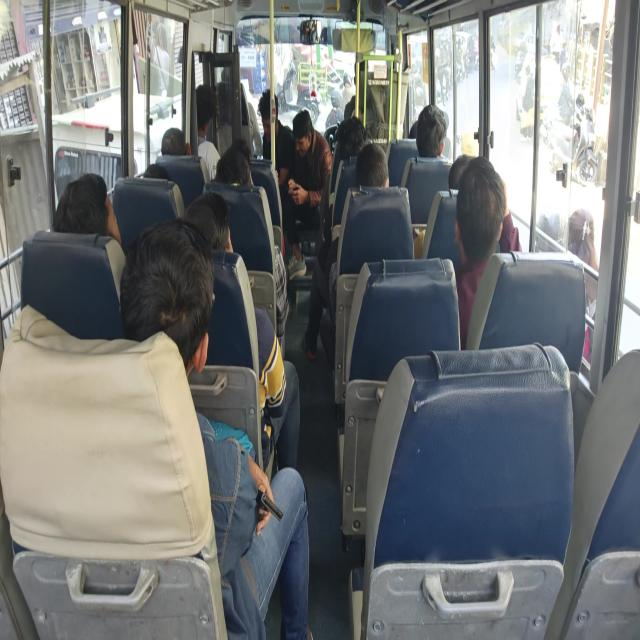person: (118, 233, 188, 339), (457, 168, 511, 259), (48, 180, 114, 228), (190, 189, 234, 240), (186, 82, 224, 140), (292, 113, 328, 174), (216, 153, 252, 197), (444, 155, 482, 193), (149, 143, 182, 186), (358, 150, 390, 192), (154, 115, 189, 151), (424, 102, 446, 159), (259, 92, 285, 132), (340, 118, 363, 154), (407, 117, 429, 146), (233, 140, 254, 166)
